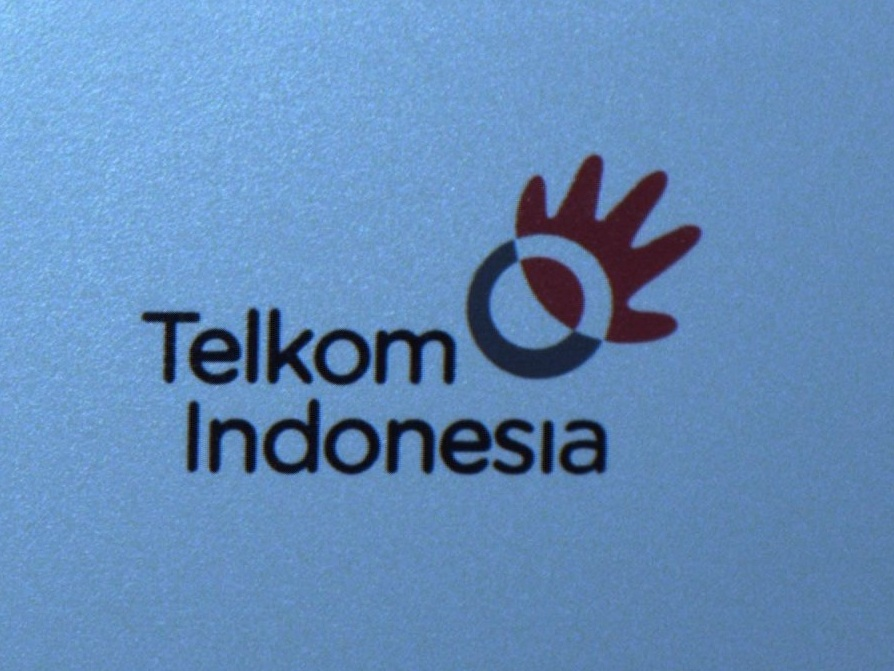BQ_IndonTelkom: (96, 152, 707, 494)
